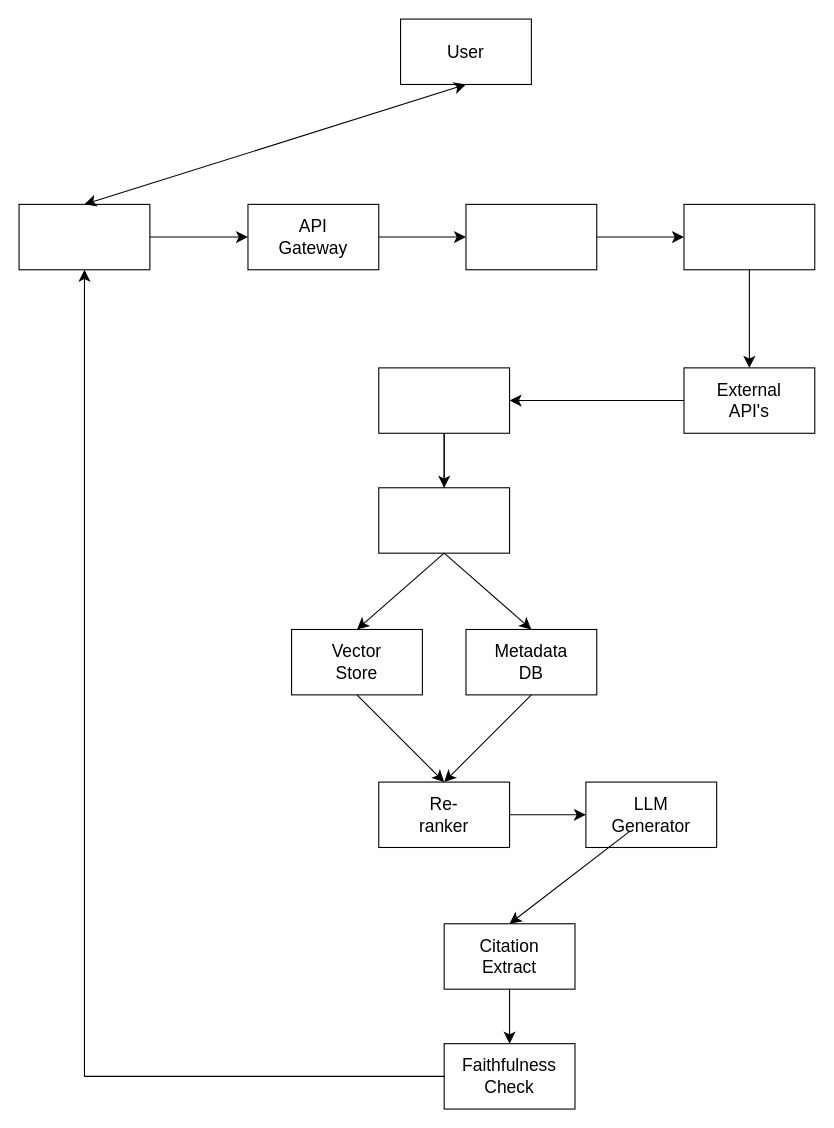
The diagram is 834 pixels wide and 1128 high, and some of its shapes have lost their labels. Each missing label, with the centre of its shape:
"Chat UI" belongs at pixel 84 236.
"Chunk Embedding" belongs at pixel 444 520.
"Deduplication & Normalisation" belongs at pixel 444 400.
"Dense Encoder" belongs at pixel 749 236.
"Query Understanding" belongs at pixel 531 236.
